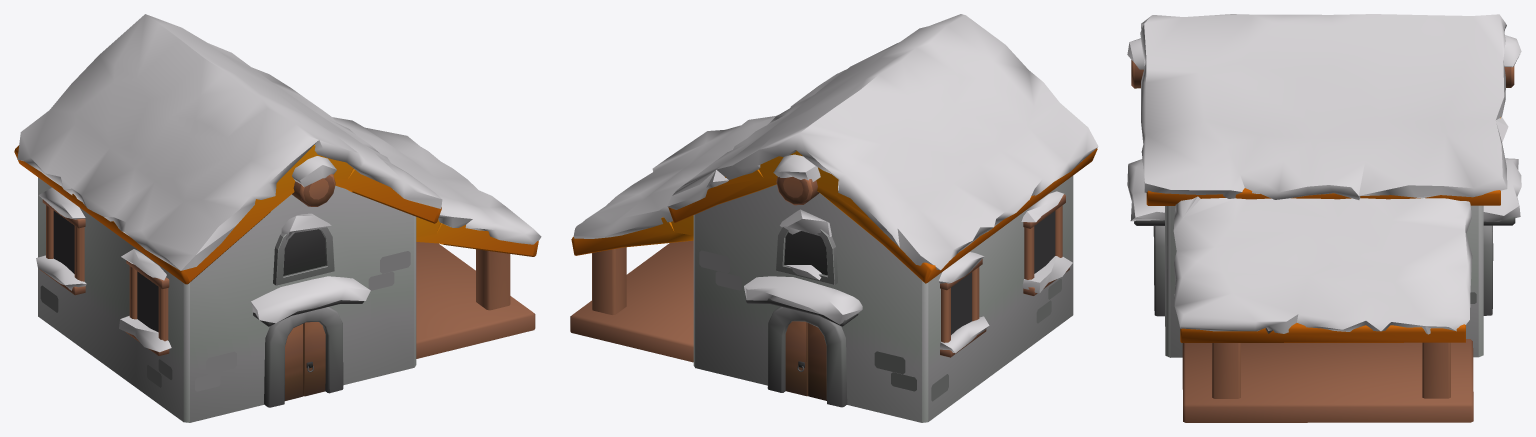
The model's file is HouseSnowy_1.fbx.
3 views of the same model, side by side, from view 1: azimuth 30°, elevation 25°; view 2: azimuth 150°, elevation 25°; view 3: azimuth 270°, elevation 25° (orthographic). The views are drawn at different scales.
Visible parts, largest first — view 1: HouseSnowy_1; view 2: HouseSnowy_1; view 3: HouseSnowy_1.
Boxes of the visible parts, x1,y1,x2,y2 form: HouseSnowy_1: (14, 14, 541, 422); HouseSnowy_1: (570, 14, 1098, 422); HouseSnowy_1: (1127, 14, 1521, 422).
Bounding box in the file's own units: 360 × 237 × 299.
